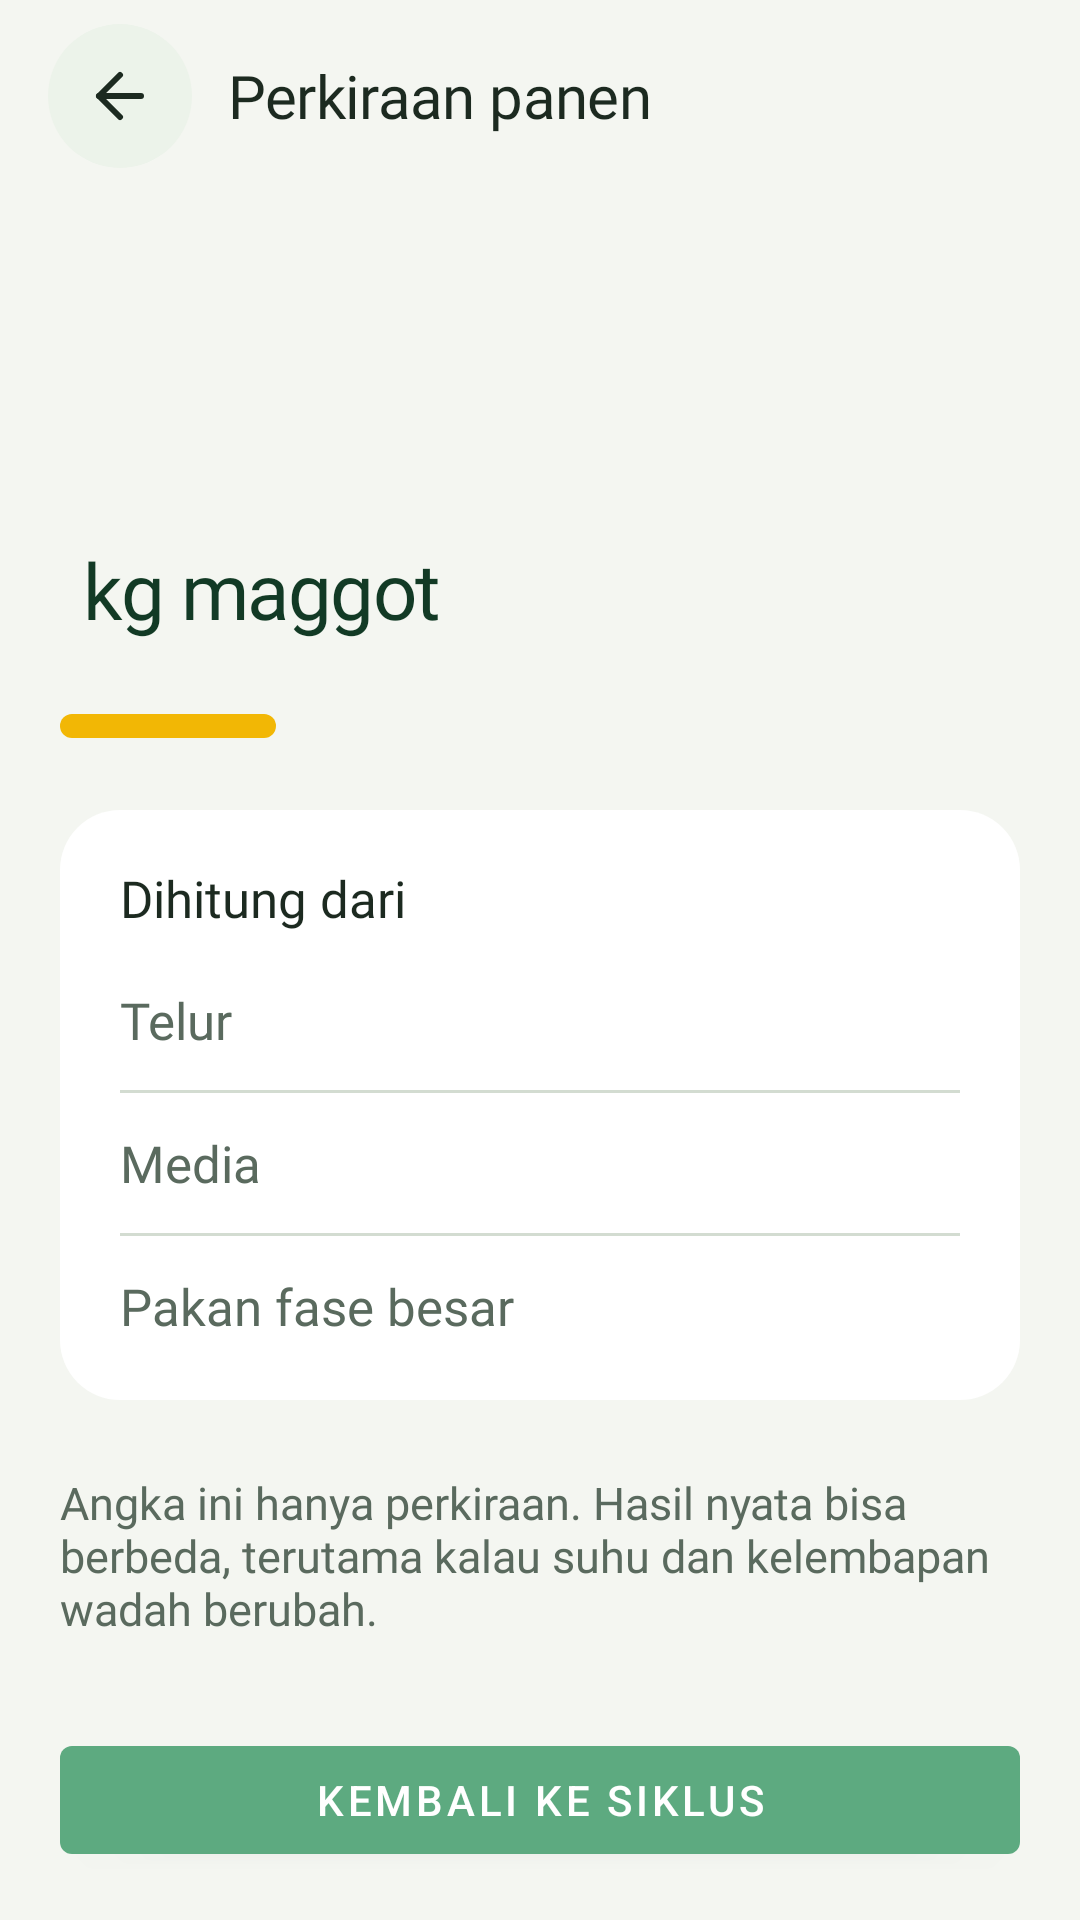

Named icons in this screenshot (1080x1920) and their centers, (x,y):
Kembali: (120,96)
